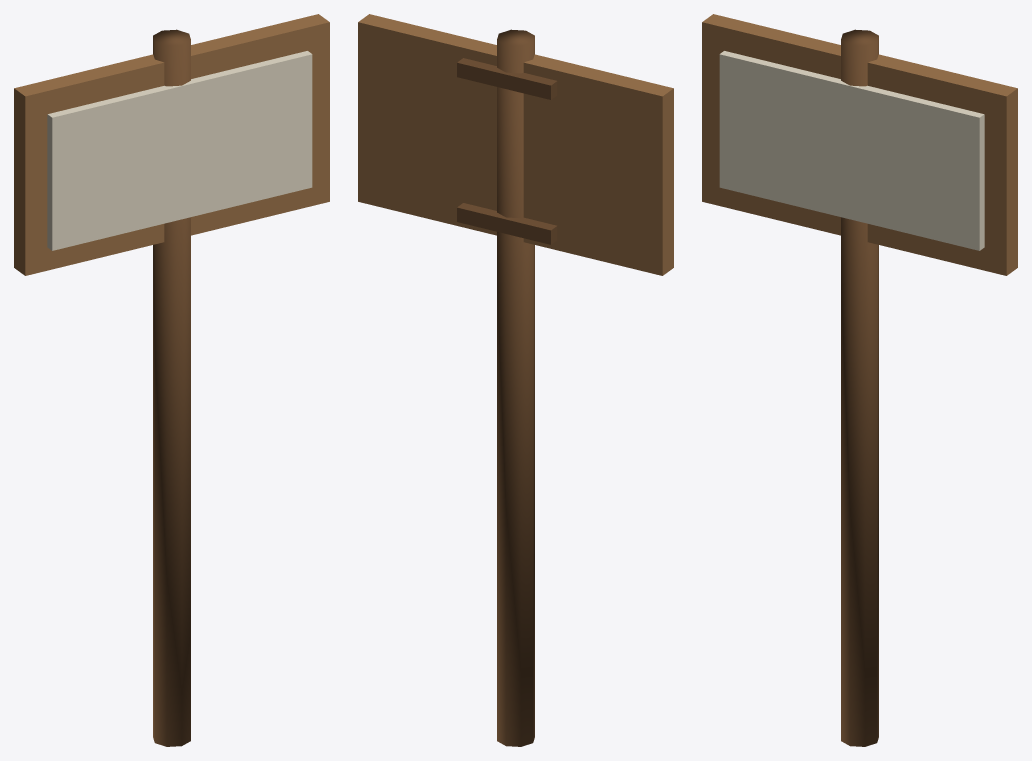
Rendered from prop_sign.glb.
3 renders of one model, left to right at view 1: azimuth 30°, elevation 25°; view 2: azimuth 150°, elevation 25°; view 3: azimuth 330°, elevation 25°, orthographic.
Parts seen in each view (by area): view 1: face, board, post; view 2: board, post, brace.001, brace; view 3: face, board, post.
Part boxes in pixels (box(x1,y1,x2,y2)): face: box(47, 51, 312, 250); board: box(14, 14, 329, 275); post: box(153, 29, 190, 746); board: box(358, 14, 673, 275); post: box(497, 29, 534, 746); brace.001: box(457, 58, 557, 99); brace: box(457, 203, 557, 244); face: box(719, 51, 984, 250); board: box(702, 14, 1017, 275); post: box(841, 29, 878, 746).
Size of the model in its own units: 1.1 by 2.42 by 0.14.
